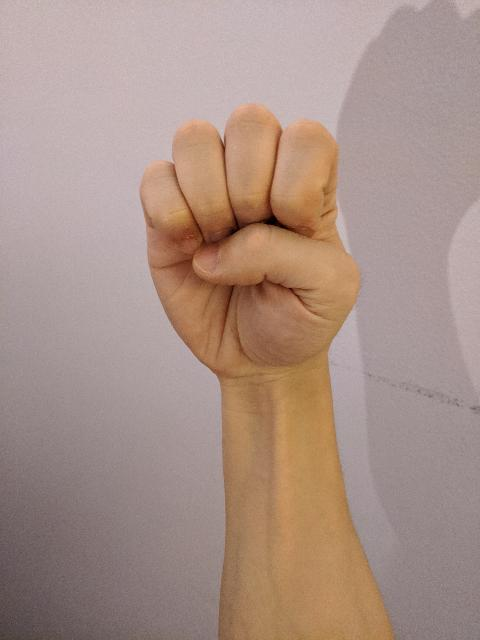E: (133, 98, 367, 386)
